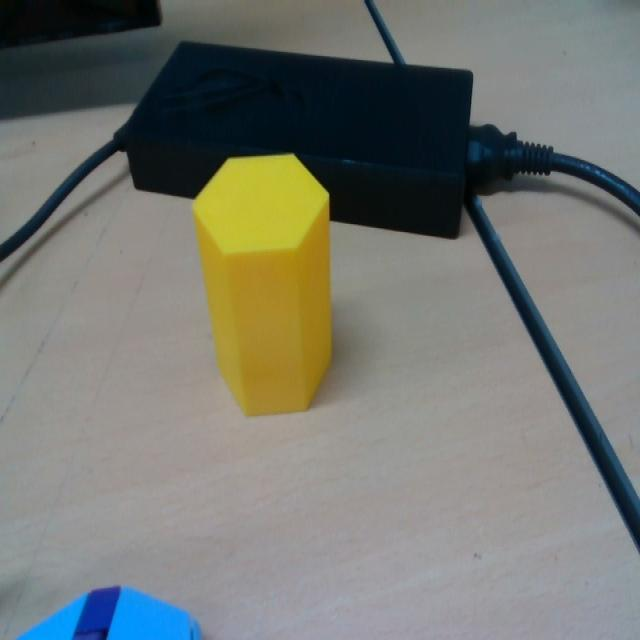hexagon: (193, 156, 331, 415)
